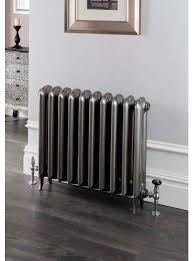Radiator: (29, 83, 163, 211)
